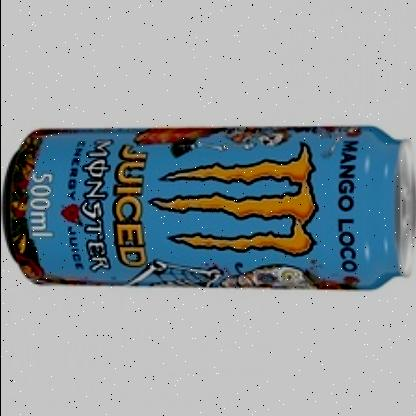Can: (0, 126, 416, 290)
